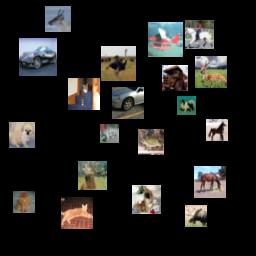airplane: (148, 22, 183, 57)
automobile: (19, 38, 57, 76), (112, 87, 144, 119)
bird: (101, 46, 136, 81)
cat: (61, 197, 93, 229), (68, 78, 100, 110), (13, 191, 35, 213)
deer: (195, 56, 227, 88), (78, 161, 107, 190), (45, 6, 71, 32), (185, 205, 207, 227), (100, 124, 119, 143)
dog: (132, 185, 161, 214), (9, 122, 35, 148), (177, 96, 196, 115)
frog: (138, 129, 164, 155)
truck: (162, 65, 188, 91)
